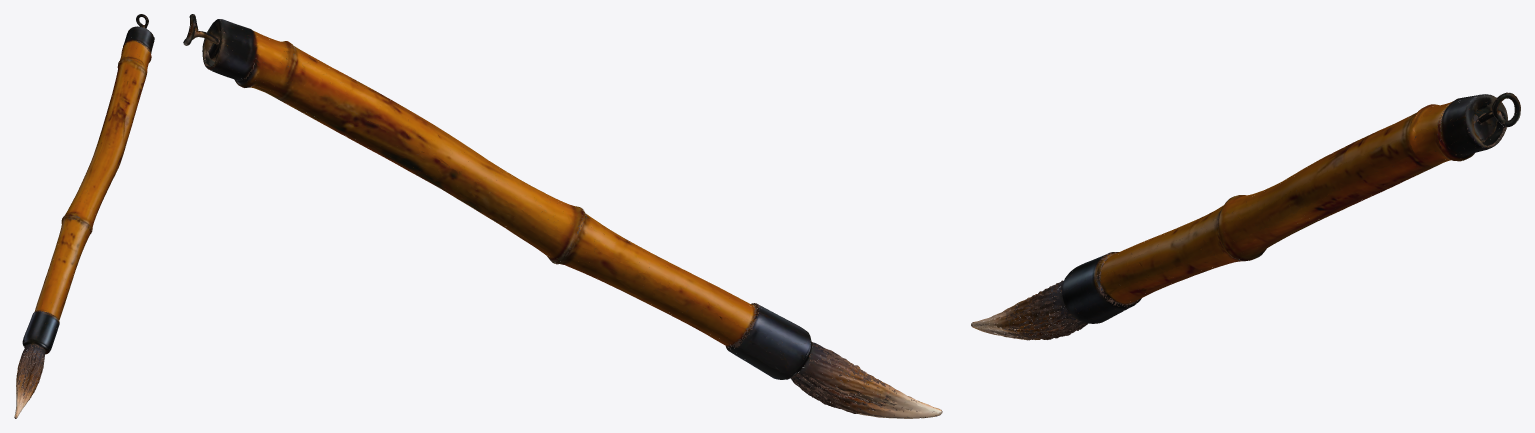
Rendered from brush.glb.
The picture shows the model from 3 angles, left to right: view 1: azimuth 30°, elevation 25°; view 2: azimuth 150°, elevation 25°; view 3: azimuth 270°, elevation 25°; orthographic projection. The views are drawn at different scales.
Visible parts, largest first — view 1: brush_lux3d; view 2: brush_lux3d; view 3: brush_lux3d.
Boxes of the visible parts, left/top/right/bottom form: brush_lux3d: left=14, top=14, right=154, bottom=418; brush_lux3d: left=183, top=14, right=942, bottom=418; brush_lux3d: left=971, top=92, right=1520, bottom=340.
Bounding box in the file's own units: 6 × 5.29 × 5.39.
1 material, 1 textured.
